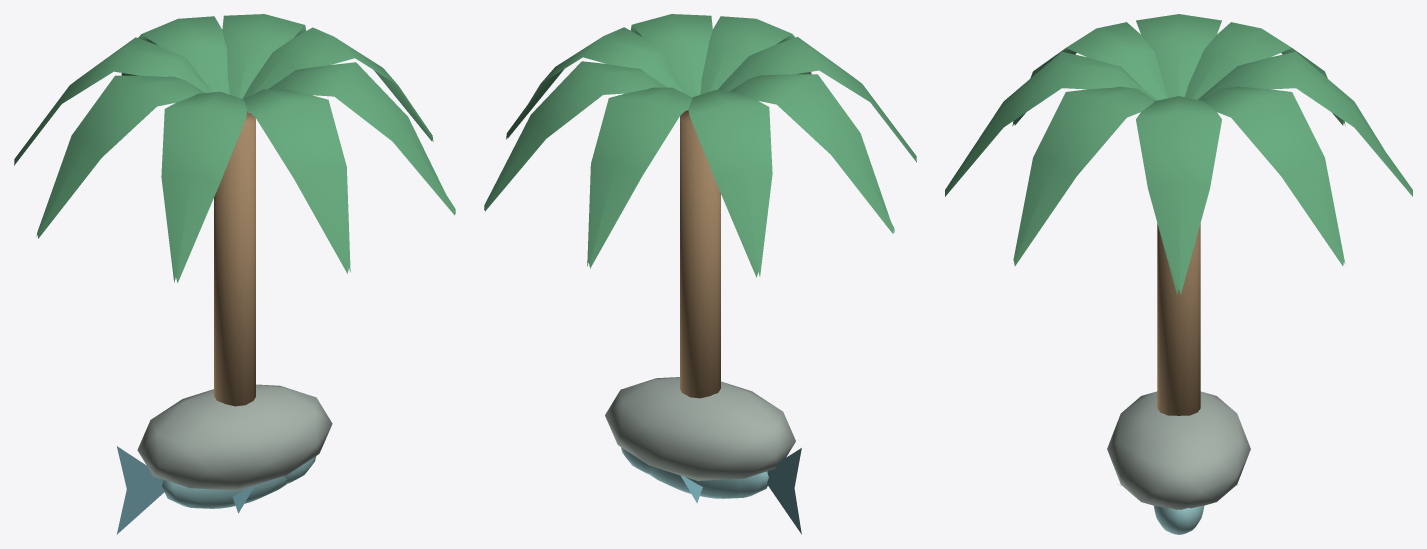
The model's file is river-props.0fafb520758f.glb.
3 renders of one model, left to right at view 1: azimuth 30°, elevation 25°; view 2: azimuth 150°, elevation 25°; view 3: azimuth 270°, elevation 25°, orthographic. The views are drawn at different scales.
Parts seen in each view (by area): view 1: Palm frond, Rounded river stone, Palm trunk, Fish body, Tail fin; view 2: Palm frond, Rounded river stone, Palm trunk, Fish body, Tail fin; view 3: Palm frond, Rounded river stone, Palm trunk, Fish body.
Boxes of the visible parts, x1,y1,x2,y2 form: Palm frond: (14, 14, 455, 282); Rounded river stone: (137, 384, 332, 490); Palm trunk: (214, 112, 255, 406); Fish body: (162, 456, 316, 508); Tail fin: (116, 446, 164, 534); Palm frond: (484, 14, 916, 277); Rounded river stone: (605, 377, 795, 480); Palm trunk: (680, 110, 720, 398); Fish body: (621, 447, 768, 498); Tail fin: (767, 448, 801, 534); Palm frond: (945, 14, 1412, 294); Rounded river stone: (1107, 391, 1250, 509); Palm trunk: (1157, 223, 1200, 415); Fish body: (1154, 505, 1203, 534).
Bounding box in the file's own units: 2.6 × 2.85 × 2.6.
